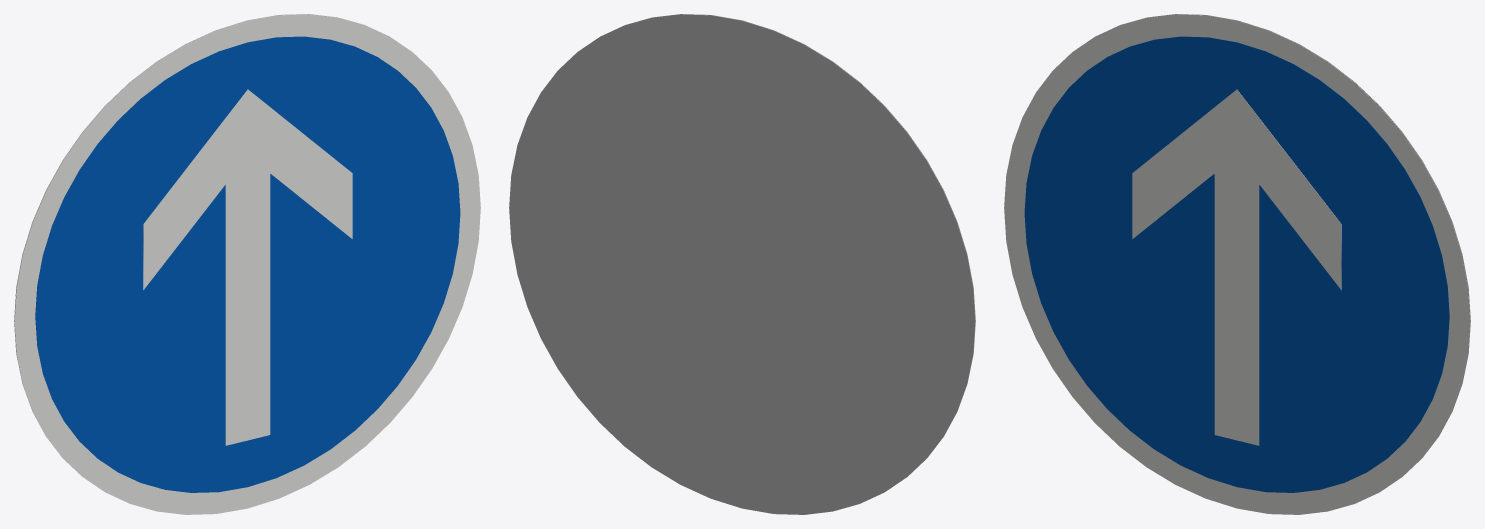
The picture shows the model from 3 angles, left to right: view 1: azimuth 30°, elevation 25°; view 2: azimuth 150°, elevation 25°; view 3: azimuth 330°, elevation 25°; orthographic projection.
Visible parts, largest first — view 1: B21b_p01, B21b_p00, B21b_p02, B21b_dos; view 2: B21b_dos, B21b_p00; view 3: B21b_p01, B21b_p00, B21b_p02, B21b_dos.
Part boxes in pixels (x1,y1,x2,y2): B21b_p01: (35, 36, 460, 492); B21b_p00: (14, 14, 480, 514); B21b_p02: (143, 89, 352, 445); B21b_dos: (14, 14, 385, 473); B21b_dos: (509, 14, 975, 514); B21b_p00: (604, 14, 975, 473); B21b_p01: (1024, 36, 1449, 492); B21b_p00: (1004, 14, 1470, 514); B21b_p02: (1132, 89, 1341, 445); B21b_dos: (1099, 14, 1470, 473).
Size of the model in its own units: 0.85 by 0.8498 by 0.0027.
